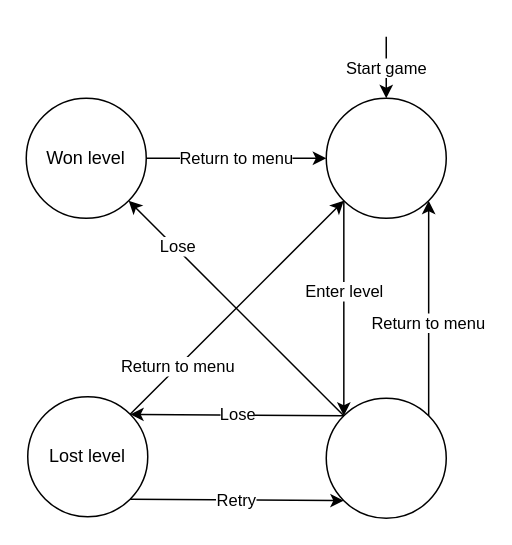
The diagram is 512 pixels wide and 545 high, and some of its shapes have lost their labels. Here are the shapes that lost their labels. From the top down, the box of each, then its label:
(325, 97, 446, 218): Main menu
(325, 397, 446, 518): In level
